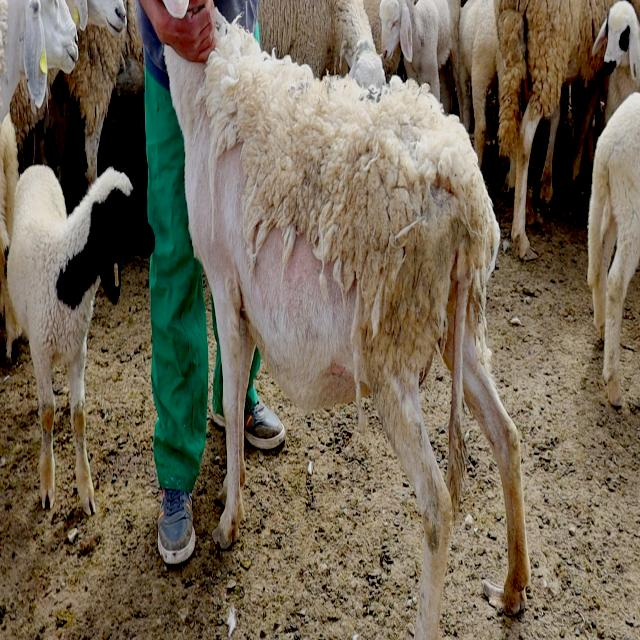Score_2: (165, 8, 530, 639)
